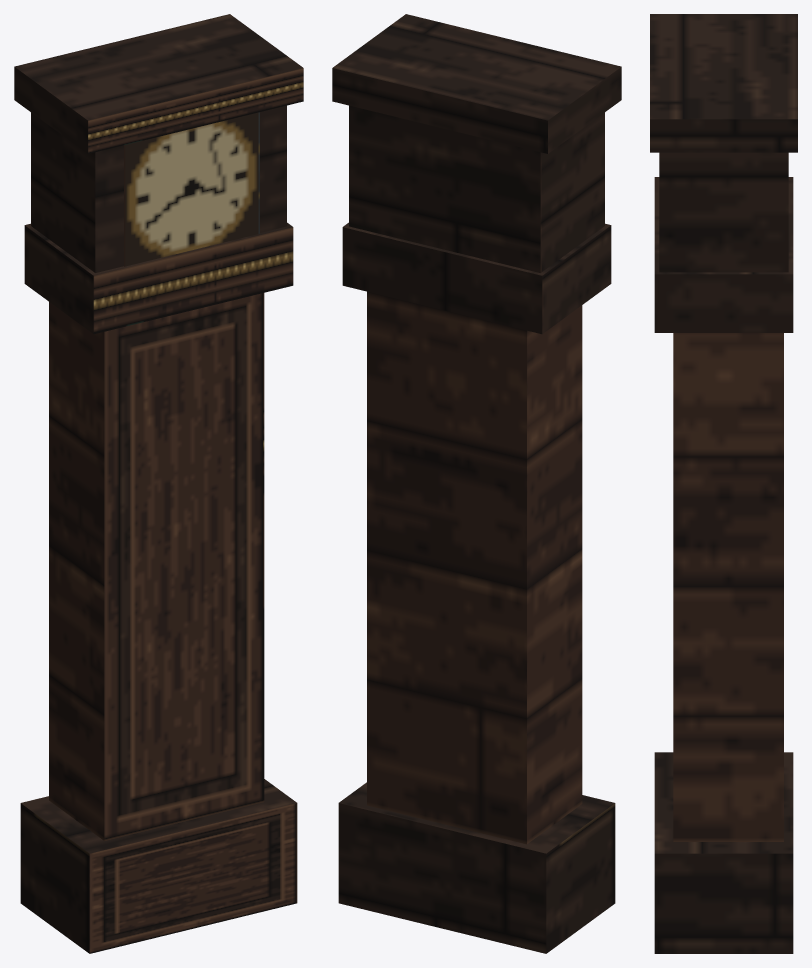
Rendered from Atmos_Clock_Grandfather.fbx.
3 views of the same model, side by side, from view 1: azimuth 30°, elevation 25°; view 2: azimuth 150°, elevation 25°; view 3: azimuth 270°, elevation 25° (orthographic).
Visible parts, largest first — view 1: Atmos_Clock_Grandfather, Atmos_Clock_Face; view 2: Atmos_Clock_Grandfather; view 3: Atmos_Clock_Grandfather.
Boxes of the visible parts, <box> form: Atmos_Clock_Grandfather: <box>14,14,303,953</box>; Atmos_Clock_Face: <box>124,112,259,266</box>; Atmos_Clock_Grandfather: <box>332,14,621,953</box>; Atmos_Clock_Grandfather: <box>650,14,797,953</box>.
Bounding box in the file's own units: 54 × 200 × 32.
